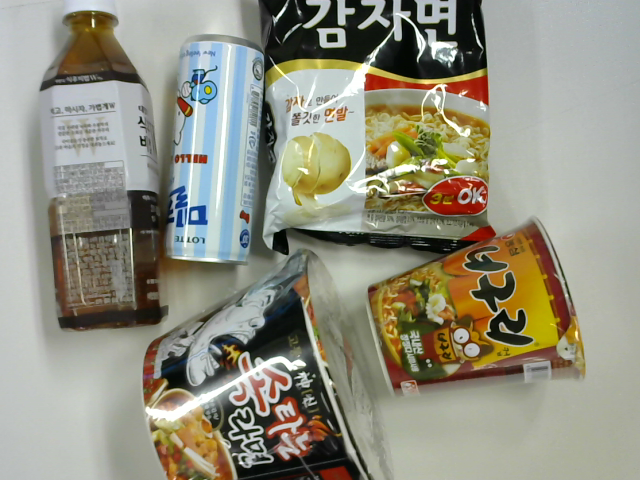HeJangsock: (143, 256, 386, 480)
Milkies_250ml: (159, 36, 259, 266)
Post-meal_recipe_W_tea_500ml: (29, 6, 169, 322)
Potato: (257, 4, 499, 254)
Raccoon: (363, 218, 593, 392)
